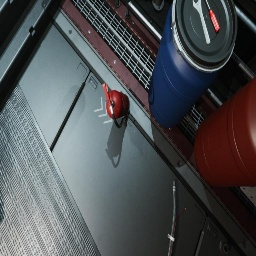FireExtinguisher ]: (102, 83, 130, 129)
